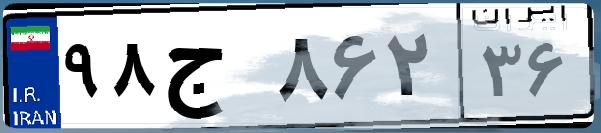2: (385, 28, 445, 110)
3: (475, 38, 525, 113)
6: (330, 28, 385, 110), (525, 38, 570, 115)
8: (270, 28, 330, 110), (110, 28, 158, 98)
9: (57, 26, 110, 100)
ج: (158, 20, 270, 120)
